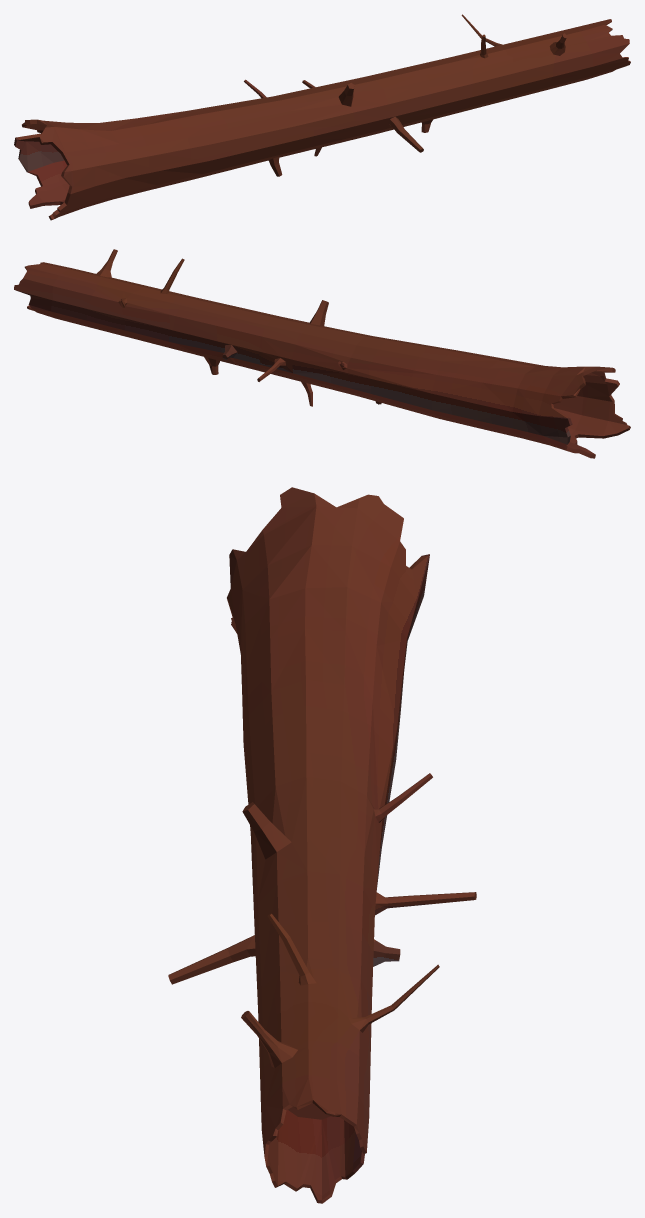
The model's file is Fallen_Dynamic_Tree_01.fbx.
3 renders of one model, top to bottom at view 1: azimuth 30°, elevation 25°; view 2: azimuth 150°, elevation 25°; view 3: azimuth 270°, elevation 25°, orthographic. The views are drawn at different scales.
Parts seen in each view (by area): view 1: SM_Tree_Fallen_01_Dynamic.mo; view 2: SM_Tree_Fallen_01_Dynamic.mo; view 3: SM_Tree_Fallen_01_Dynamic.mo.
Part boxes in pixels (x1,y1,x2,y2): SM_Tree_Fallen_01_Dynamic.mo: (14, 14, 630, 220); SM_Tree_Fallen_01_Dynamic.mo: (14, 249, 630, 458); SM_Tree_Fallen_01_Dynamic.mo: (168, 487, 476, 1203).
Bounding box in the file's own units: 864 × 143 × 198.
